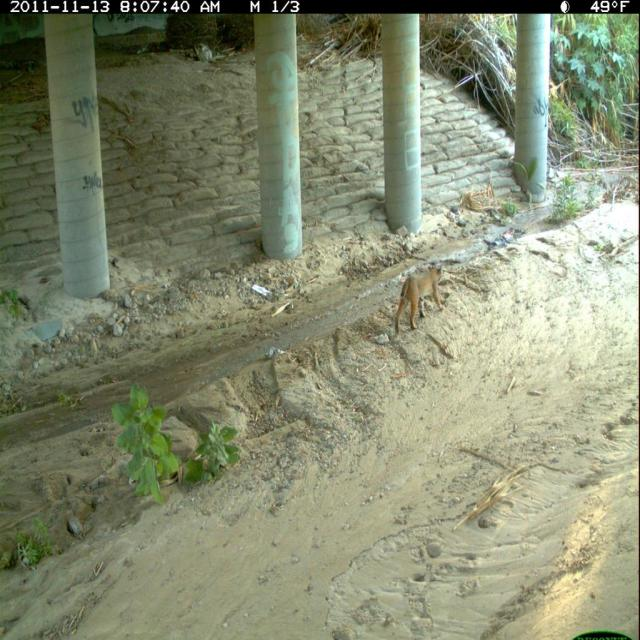bobcat: (392, 258, 451, 345)
